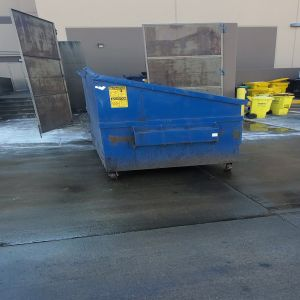Dumpster: (84, 81, 238, 178)
